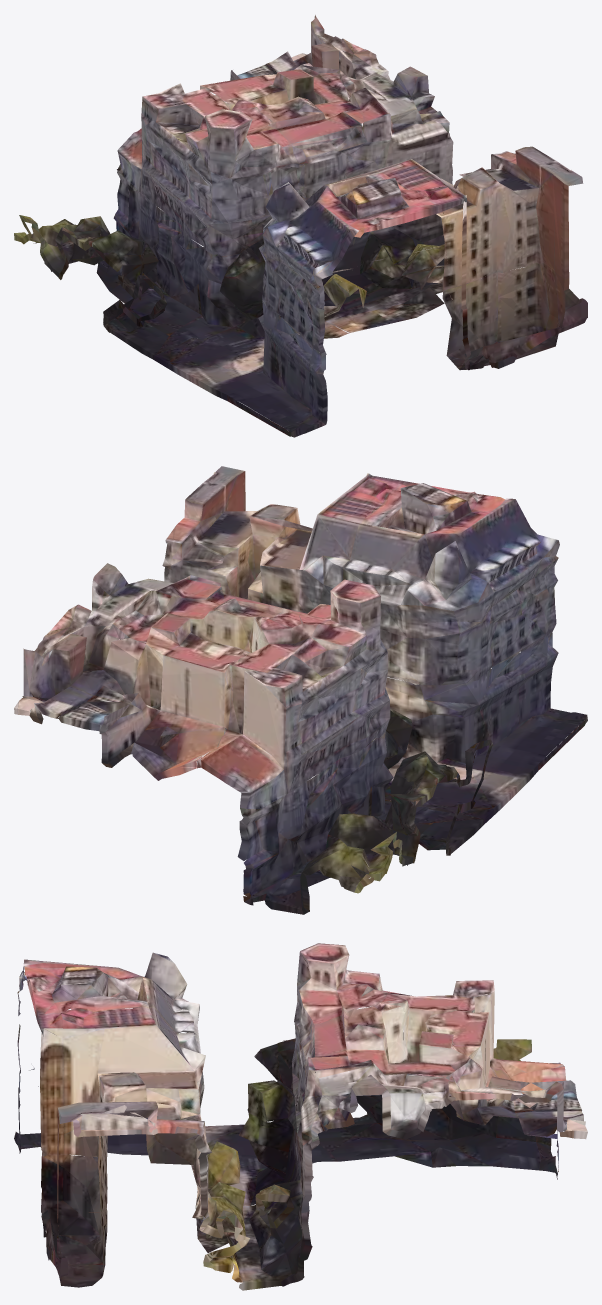
3 views of the same model, one above another, from view 1: azimuth 30°, elevation 25°; view 2: azimuth 150°, elevation 25°; view 3: azimuth 270°, elevation 25° (orthographic). The views are drawn at different scales.
Parts seen in each view (by area): view 1: Mesh_0; view 2: Mesh_0; view 3: Mesh_0.
Part boxes in pixels (bbox=[...]): Mesh_0: bbox=[14, 15, 587, 437]; Mesh_0: bbox=[14, 466, 587, 914]; Mesh_0: bbox=[14, 943, 587, 1290].
Bounding box in the file's own units: 67.51 × 37.14 × 82.64.
Materials: 1 (1 with a texture image).
